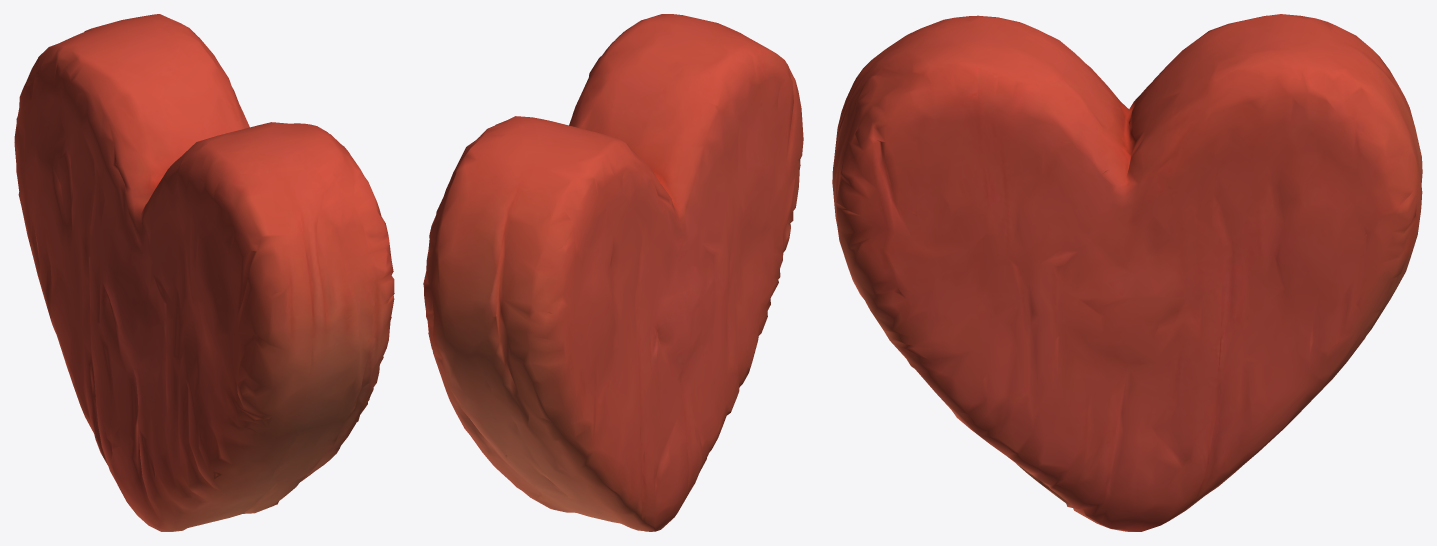
The model's file is heart.glb.
3 renders of one model, left to right at view 1: azimuth 30°, elevation 25°; view 2: azimuth 150°, elevation 25°; view 3: azimuth 270°, elevation 25°, orthographic. The views are drawn at different scales.
Visible parts, largest first — view 1: tripo_node_f7b4317a-2ee9-4c52-aef3-e055181d1559; view 2: tripo_node_f7b4317a-2ee9-4c52-aef3-e055181d1559; view 3: tripo_node_f7b4317a-2ee9-4c52-aef3-e055181d1559.
Boxes of the visible parts, left/top/right/bottom form: tripo_node_f7b4317a-2ee9-4c52-aef3-e055181d1559: left=14, top=14, right=394, bottom=531; tripo_node_f7b4317a-2ee9-4c52-aef3-e055181d1559: left=423, top=14, right=803, bottom=531; tripo_node_f7b4317a-2ee9-4c52-aef3-e055181d1559: left=832, top=14, right=1422, bottom=531.
Size of the model in its own units: 0.3116 by 0.8824 by 1.
1 material, 1 textured.
